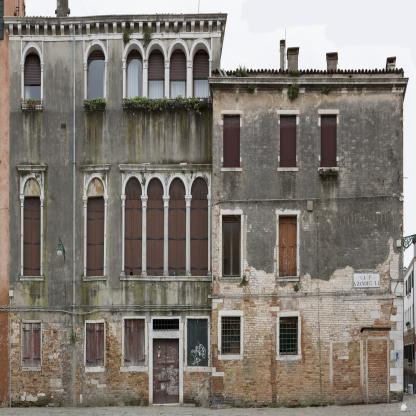Blind: (87, 197, 105, 277), (23, 196, 41, 276), (191, 200, 209, 277), (168, 200, 186, 277), (146, 200, 164, 277), (125, 200, 142, 277), (279, 215, 297, 277), (124, 319, 145, 366), (187, 319, 208, 366), (223, 114, 240, 168), (280, 114, 296, 167), (321, 114, 337, 167), (23, 323, 41, 367), (86, 323, 104, 366), (191, 42, 210, 78), (23, 47, 41, 84), (169, 43, 187, 80), (147, 43, 165, 79)
Building Outline: (3, 0, 409, 410)
Cornice: (118, 163, 213, 173), (80, 164, 110, 173), (17, 164, 47, 173), (277, 109, 300, 114), (318, 109, 340, 114), (221, 109, 243, 114)
Deco: (353, 273, 380, 287)
Door: (153, 338, 179, 403)
Facade: (9, 78, 404, 410)
Floor: (9, 138, 212, 294), (213, 192, 404, 294)
Floor Slab: (9, 131, 212, 138), (9, 287, 212, 294), (213, 185, 404, 192), (213, 287, 404, 294)
Ground Floor: (9, 294, 212, 407), (213, 294, 404, 407)
Molding: (9, 20, 221, 36)
Pillar: (140, 195, 148, 276), (185, 195, 192, 276), (163, 195, 170, 276)
Sill: (119, 275, 213, 282), (275, 354, 302, 361), (218, 354, 244, 361), (82, 275, 107, 282), (120, 366, 148, 372), (19, 275, 45, 281), (186, 366, 212, 372), (219, 277, 244, 283), (276, 276, 300, 282), (21, 366, 42, 372), (85, 366, 105, 372), (220, 167, 243, 172), (277, 167, 299, 171), (318, 167, 339, 171)
Top Floor: (9, 33, 212, 138), (213, 84, 404, 192)
Window: (87, 197, 105, 277), (23, 196, 41, 276), (191, 200, 209, 277), (146, 200, 164, 277), (168, 200, 186, 277), (125, 200, 142, 277), (222, 214, 241, 277), (279, 215, 297, 277), (191, 43, 210, 101), (86, 44, 105, 102), (125, 43, 143, 102), (147, 43, 165, 101), (169, 43, 187, 101), (23, 47, 41, 105), (124, 319, 145, 366), (187, 319, 208, 366), (223, 114, 240, 168), (280, 114, 296, 167), (321, 114, 337, 167), (23, 323, 41, 367), (86, 323, 104, 366), (222, 317, 241, 355), (279, 317, 298, 355), (190, 176, 208, 199), (124, 176, 142, 199), (146, 176, 164, 199), (168, 176, 186, 199), (23, 177, 41, 196), (87, 177, 105, 196), (153, 319, 179, 331)
